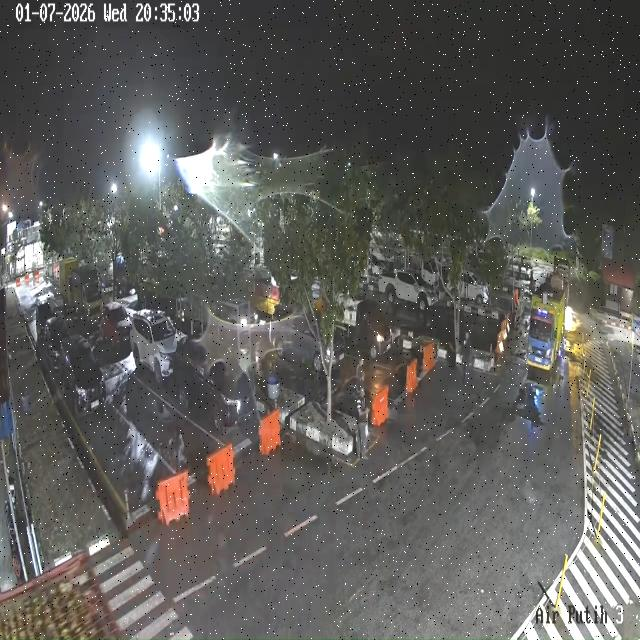Golongan IVA: (173, 340, 258, 433), (269, 304, 345, 372), (60, 335, 106, 415), (130, 309, 179, 384), (38, 315, 70, 372), (100, 301, 132, 348), (448, 271, 489, 304), (36, 300, 54, 341)
Golongan IVB: (378, 270, 439, 311)
Golongan VB: (527, 273, 568, 371)
